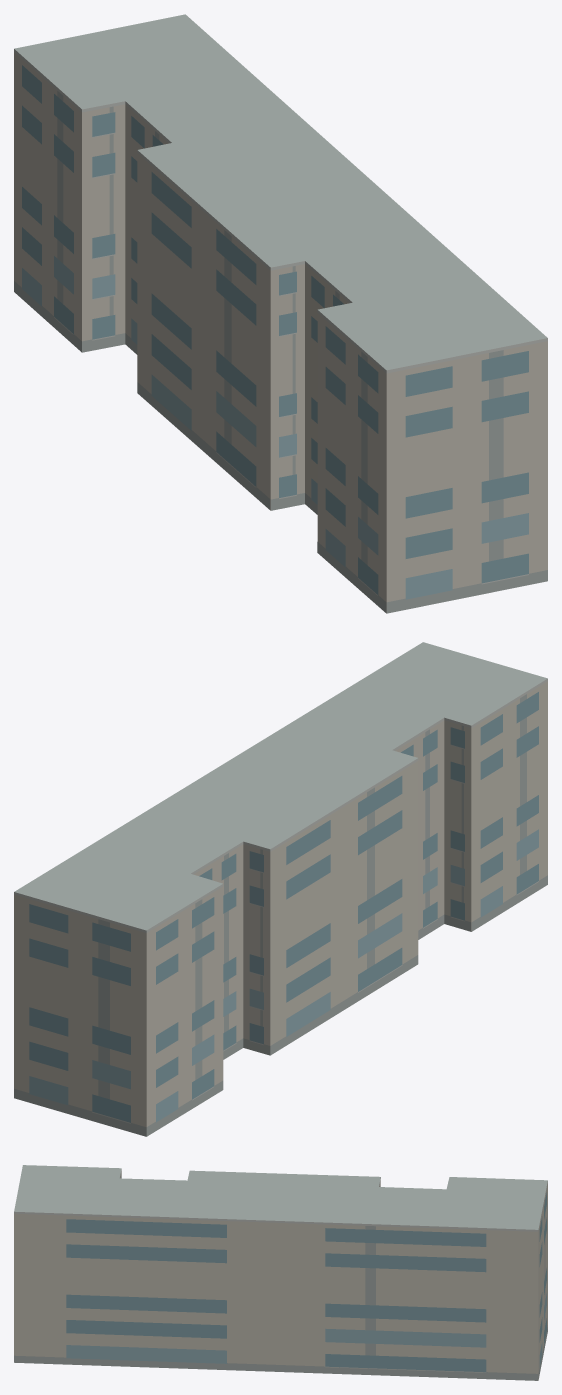
File: survey-upis-32834950.glb
3 renders of one model, top to bottom at view 1: azimuth 30°, elevation 25°; view 2: azimuth 150°, elevation 25°; view 3: azimuth 270°, elevation 25°, orthographic. The views are drawn at different scales.
Parts seen in each view (by area): view 1: survey-upis-32834950.tmp; view 2: survey-upis-32834950.tmp; view 3: survey-upis-32834950.tmp.
Part boxes in pixels (x1,y1,x2,y2): survey-upis-32834950.tmp: [14, 14, 547, 613]; survey-upis-32834950.tmp: [14, 642, 547, 1136]; survey-upis-32834950.tmp: [14, 1165, 547, 1380].
Size of the model in its own units: 17.7 by 19.2 by 61.54.
